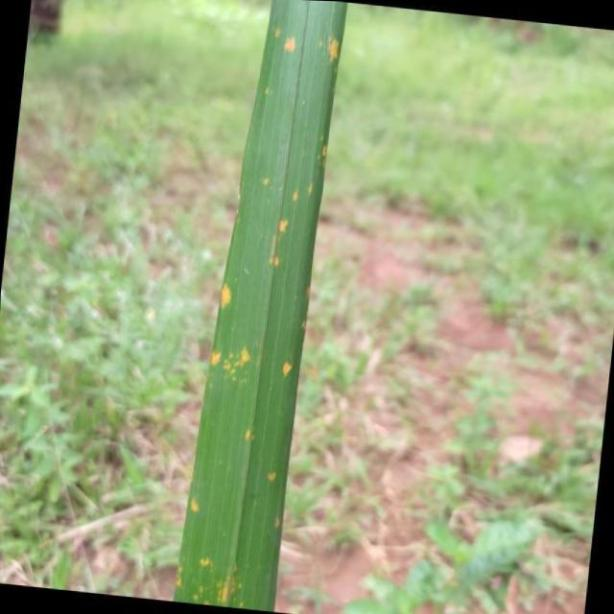Kalium: (169, 0, 347, 614)
